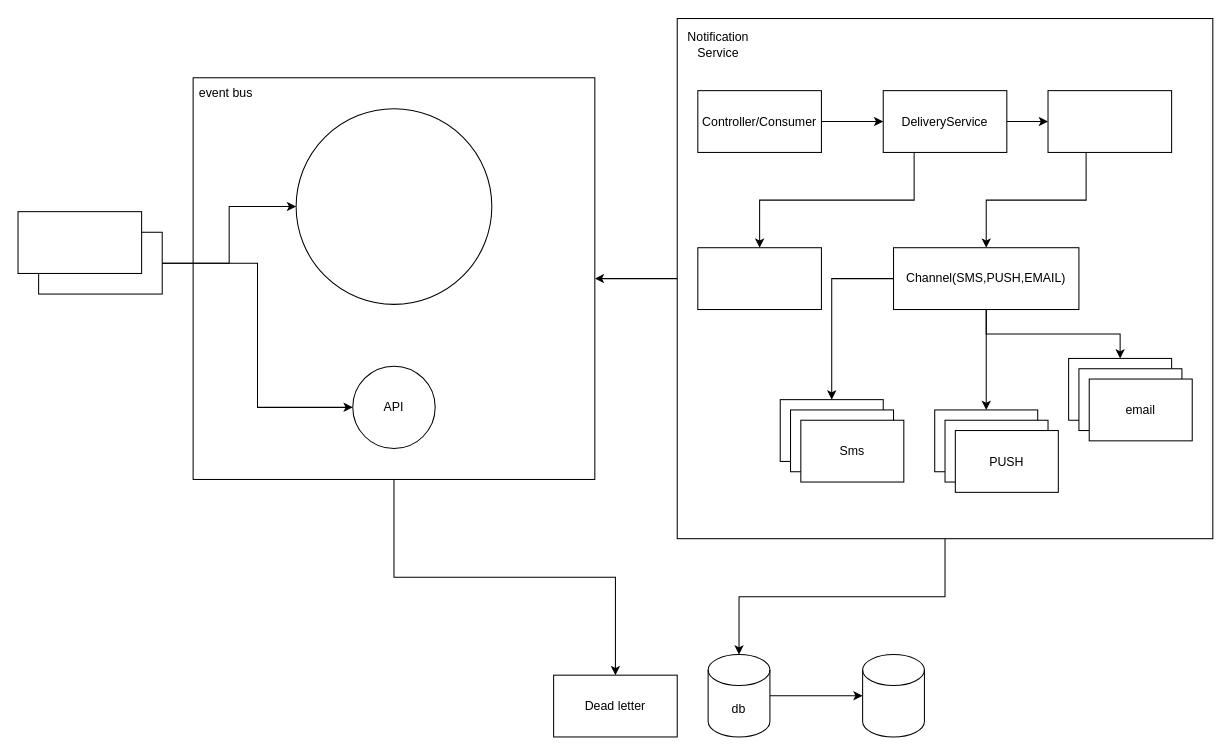
This 1231x755 diagram has some shape labels left out. The box of each missing label's shape, as (x1, y1, x2, y2) in pixels:
ChannelDispatcher: (1047, 90, 1172, 152)
clients: (17, 211, 142, 273)
message broker: (295, 108, 492, 304)
monitoring: (862, 654, 924, 737)
TemplateEngine: (697, 247, 821, 310)
